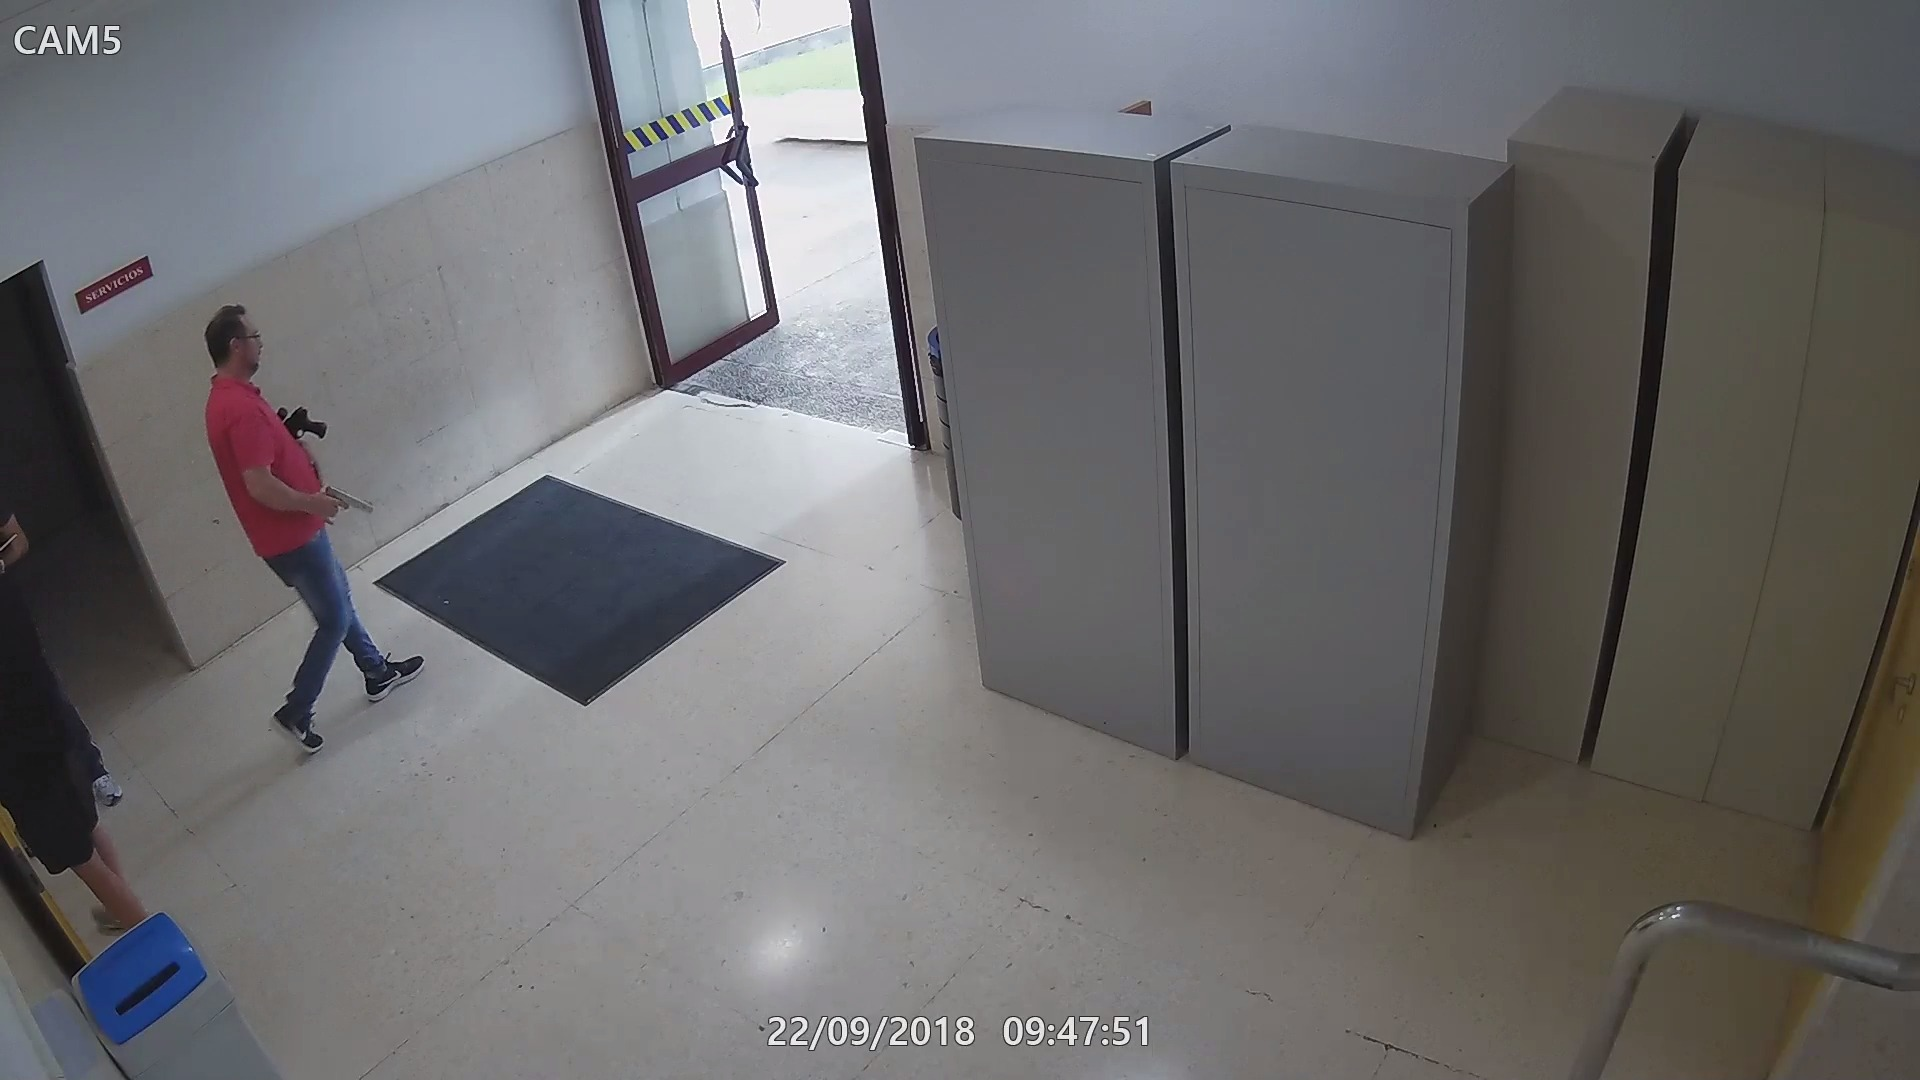Handgun: (305, 487, 376, 527)
Short_rifle: (277, 404, 330, 444)
